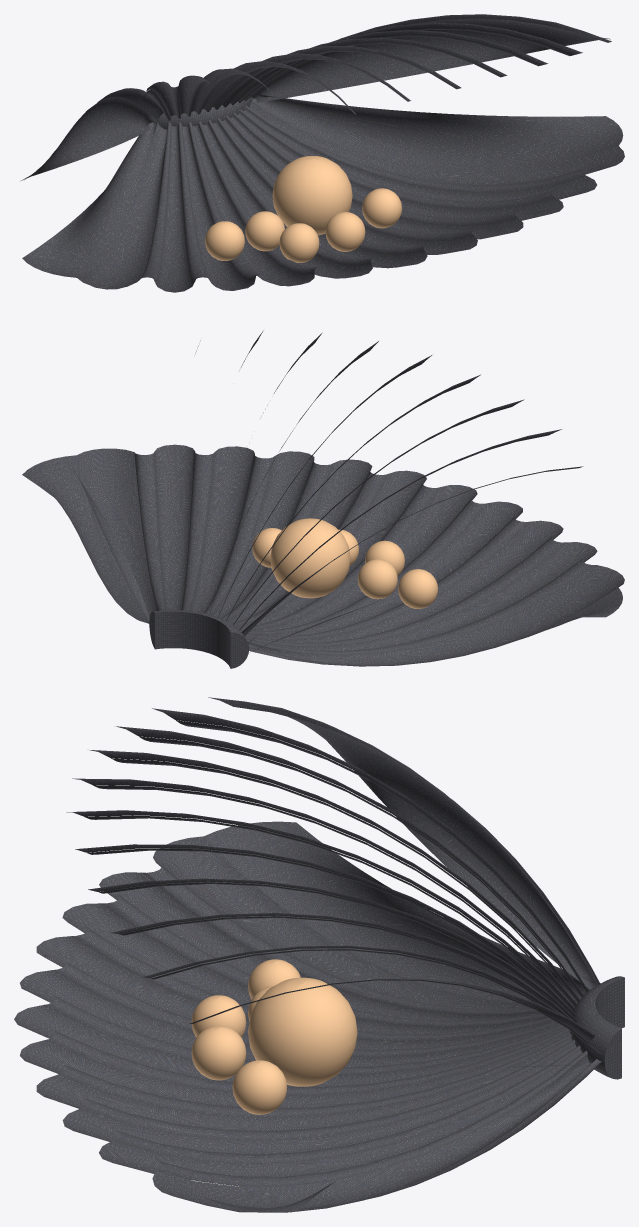
Rendered from shell.gltf.
The picture shows the model from 3 angles, top to bottom: view 1: azimuth 30°, elevation 25°; view 2: azimuth 150°, elevation 25°; view 3: azimuth 270°, elevation 25°; orthographic projection. The views are drawn at different scales.
Parts seen in each view (by area): view 1: object 2, object 3, object 4, object 9, object 6, object 8, object 7, object 5, root; view 2: object 2, object 3, object 4, root, object 5, object 6, object 7, object 9; view 3: object 2, object 3, object 4, root, object 9, object 8, object 7, object 6.
Boxes of the visible parts, left/top/right/bottom form: object 2: left=22, top=94, right=624, bottom=292; object 3: left=21, top=14, right=611, bottom=180; object 4: left=272, top=156, right=352, bottom=235; object 9: left=362, top=188, right=401, bottom=228; object 6: left=205, top=221, right=244, bottom=260; object 8: left=325, top=212, right=365, bottom=251; object 7: left=279, top=223, right=319, bottom=262; object 5: left=245, top=211, right=284, bottom=251; root: left=152, top=97, right=252, bottom=129; object 2: left=22, top=444, right=624, bottom=666; object 3: left=71, top=330, right=583, bottom=651; object 4: left=270, top=518, right=350, bottom=598; root: left=149, top=610, right=249, bottom=668; object 5: left=357, top=559, right=397, bottom=599; object 6: left=398, top=569, right=437, bottom=608; object 7: left=365, top=540, right=404, bottom=575; object 9: left=252, top=528, right=281, bottom=567; object 2: left=14, top=821, right=603, bottom=1212; object 3: left=66, top=697, right=601, bottom=1067; object 4: left=248, top=977, right=357, bottom=1086; root: left=569, top=976, right=624, bottom=1079; object 9: left=232, top=1060, right=287, bottom=1114; object 8: left=191, top=1026, right=246, bottom=1080; object 7: left=191, top=995, right=246, bottom=1037; object 6: left=248, top=959, right=300, bottom=999.
Size of the model in its own units: 1282 by 422 by 847.
Materials: 2 (1 with a texture image).
